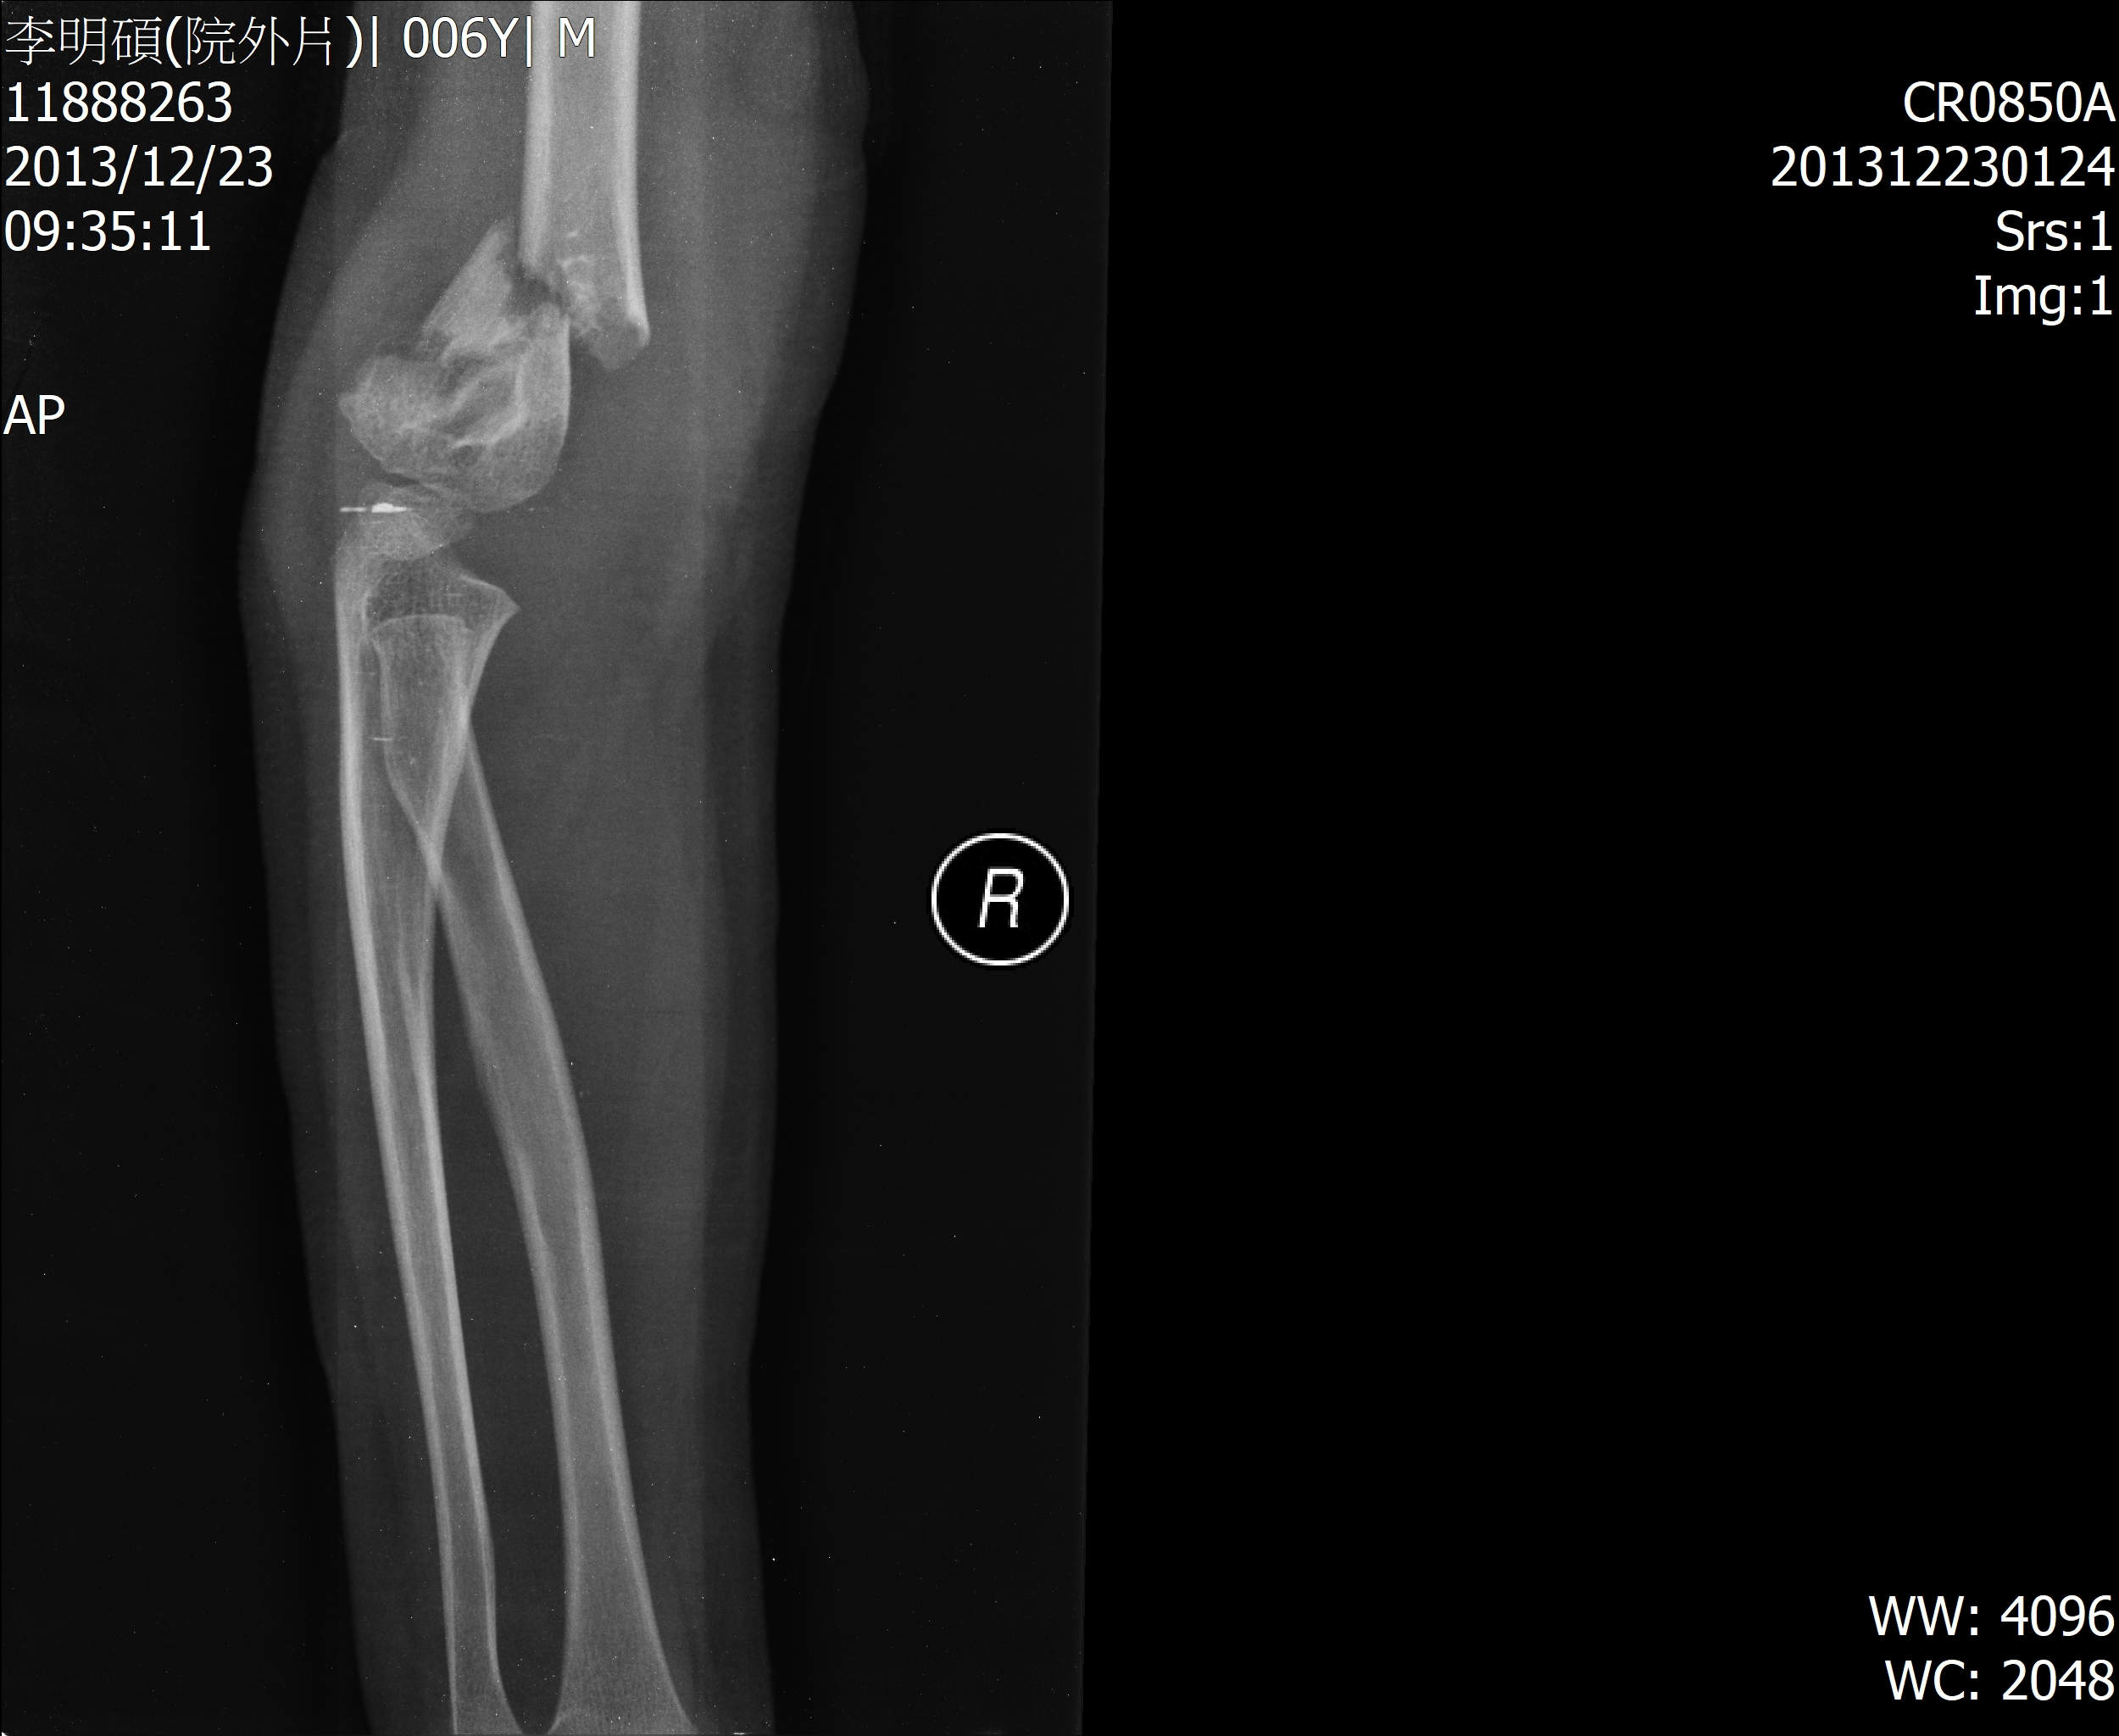SCF type 3: (174, 120, 788, 894)
